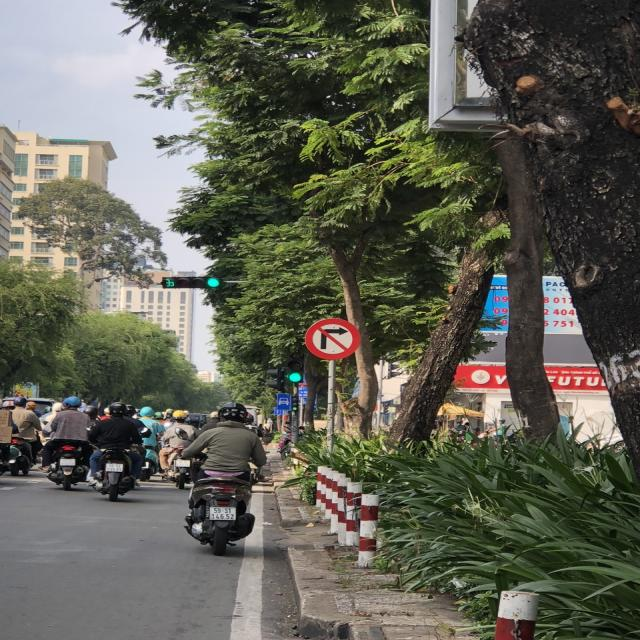Bien bao cam re phai: (296, 311, 373, 364)
